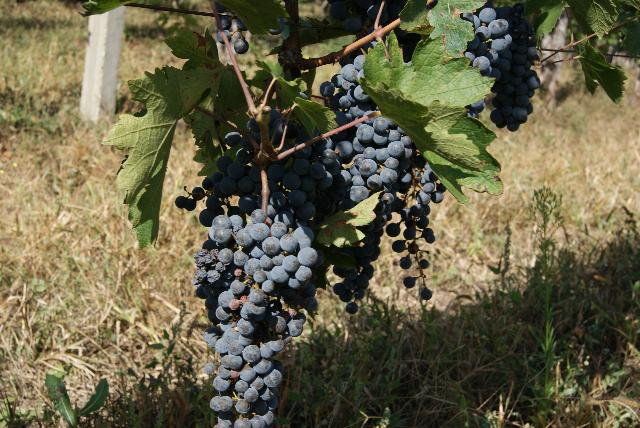grapes: (192, 205, 324, 428), (320, 55, 446, 270), (461, 1, 540, 131)
